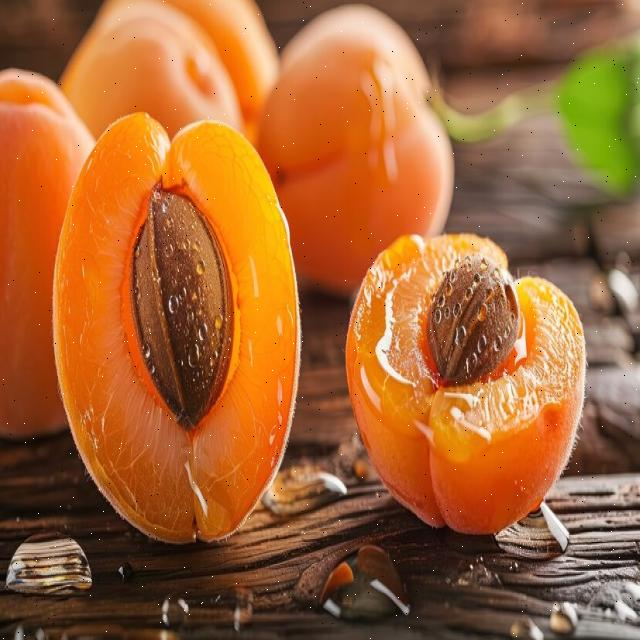kayisi: (55, 107, 304, 554), (346, 230, 591, 543), (270, 7, 452, 281), (0, 59, 85, 471), (61, 3, 272, 147)
kayisi cekirdegi: (135, 173, 231, 444), (424, 245, 522, 397)
kayisi yapragi: (553, 39, 640, 200)
